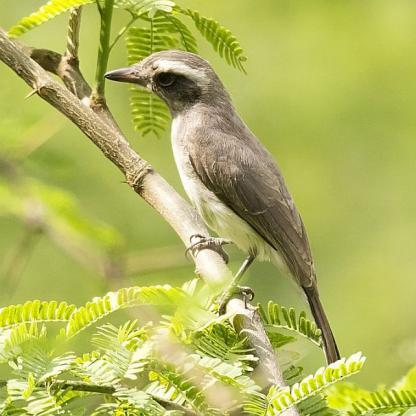Burung: (104, 49, 338, 364)
